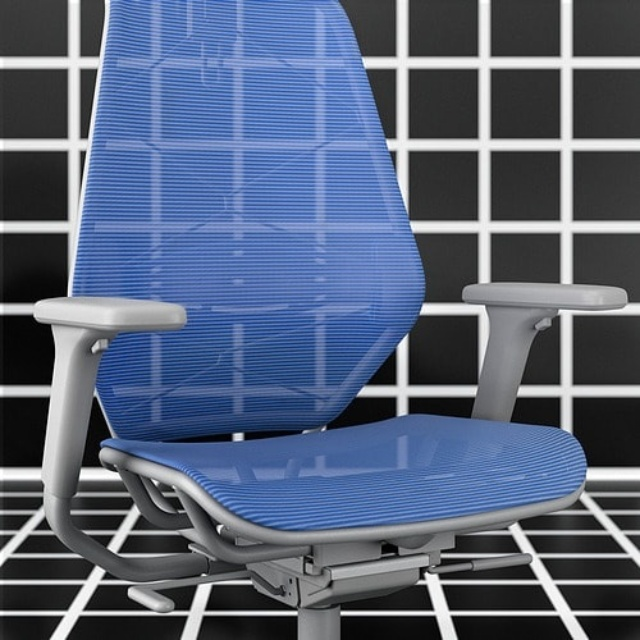obstacle: (44, 0, 584, 639), (465, 285, 625, 419)
